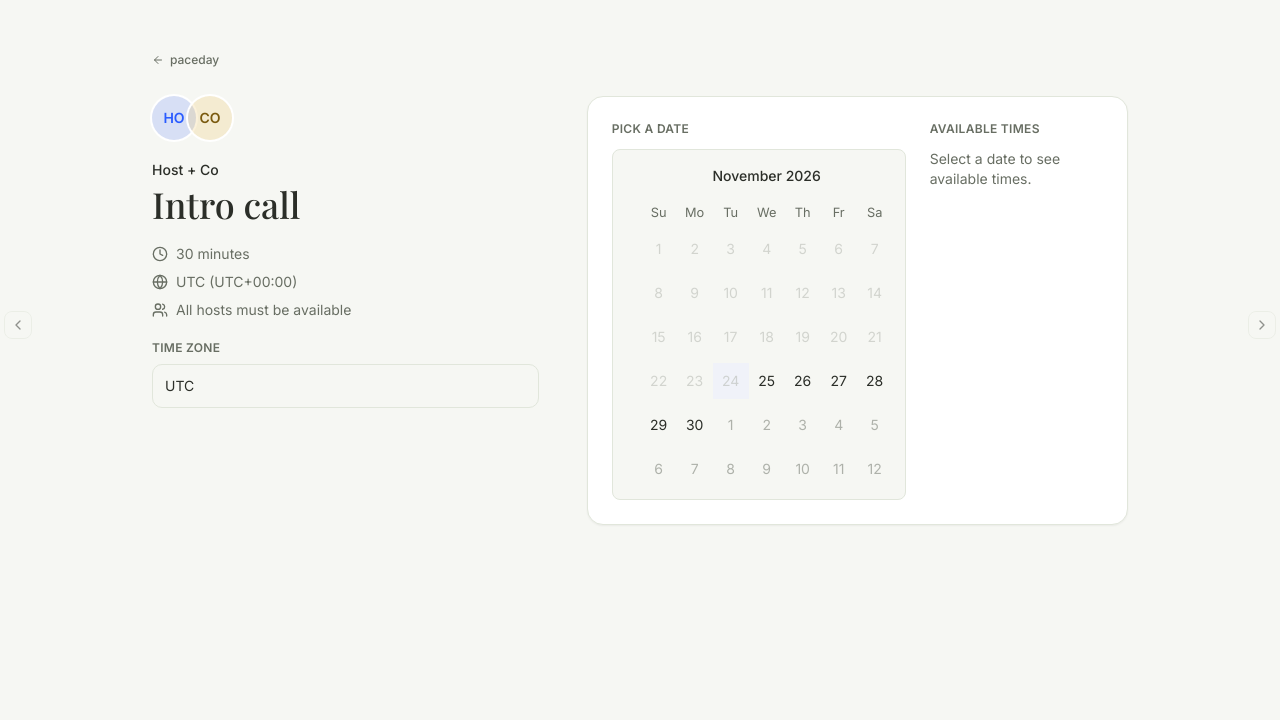
PAC-83 public booking › AC-22: a generic 500 says the booking may have been saved, never 'not made'
Click the button "25": point(767, 381) [749,363,785,399]
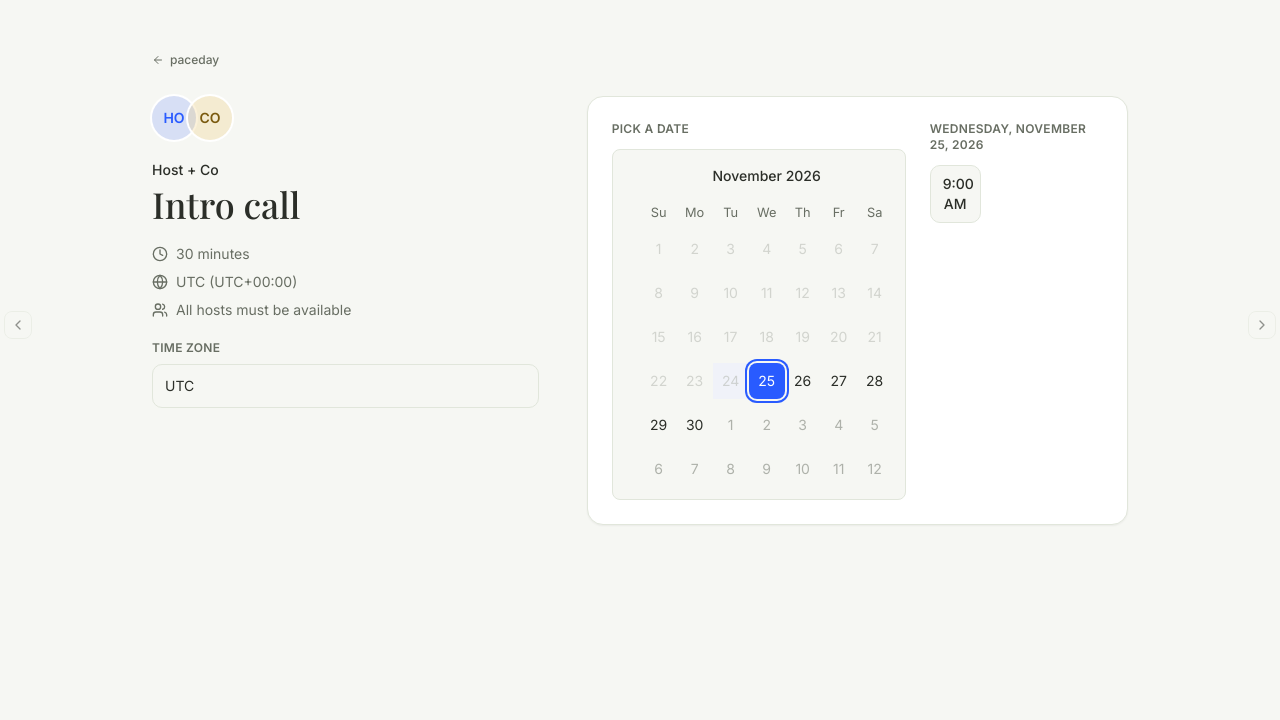
Expected: the button labelled "9:00 AM" is shown
Click the button labelled "9:00 AM": point(955, 194) [930,165,981,223]
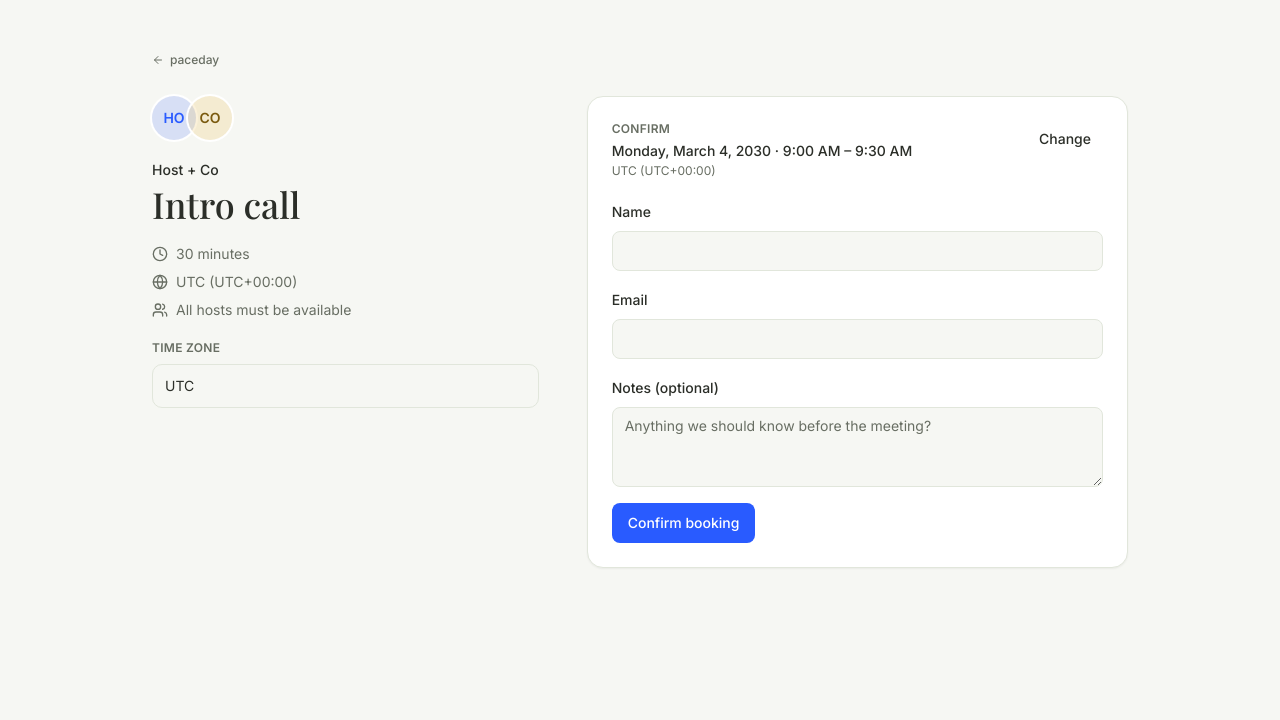
In the field labelled "Name": point(857, 251) [612,231,1103,271], type "Booker"
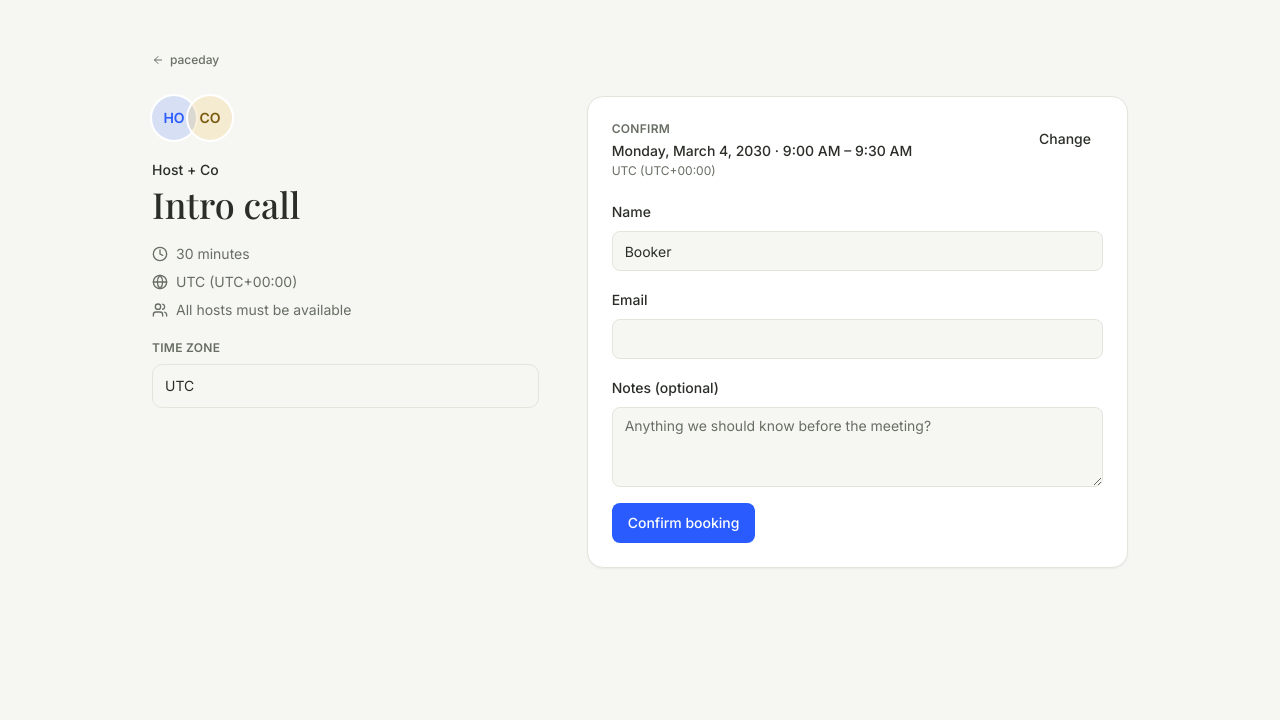
In the field labelled "Email": point(857, 339) [612,319,1103,359], type "booker@co.com"
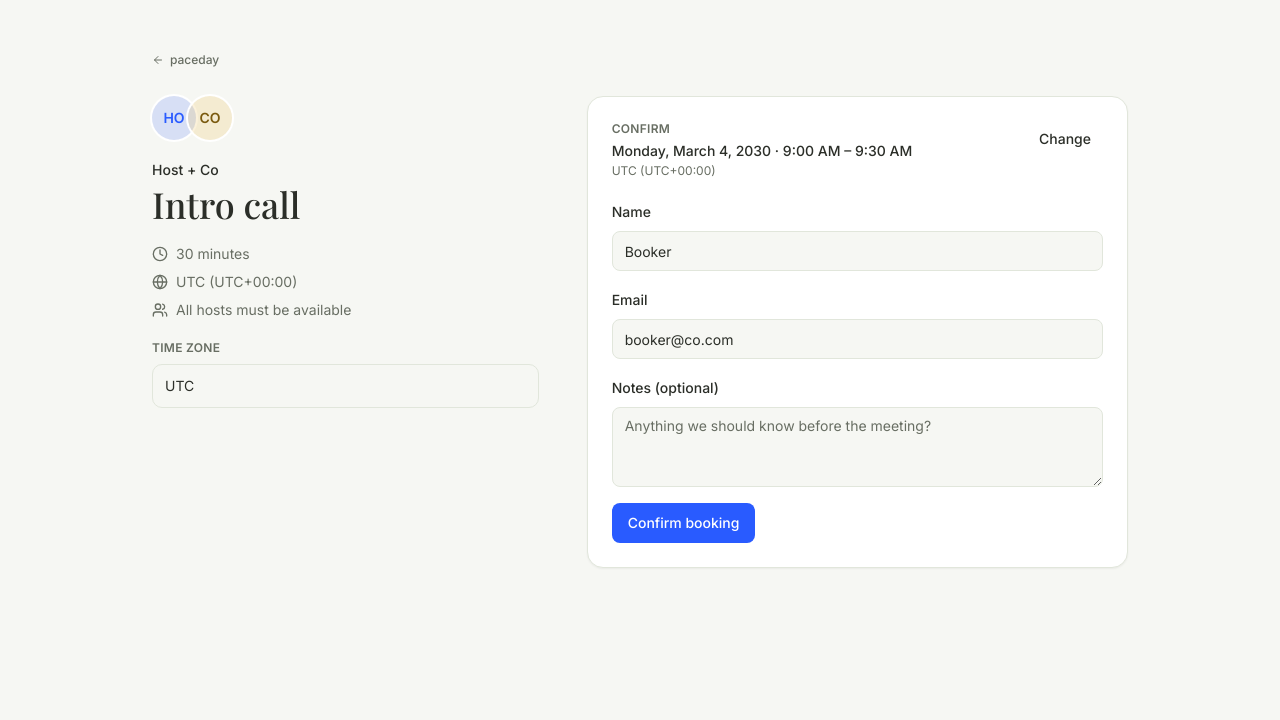
In the text box labelled "Notes (optional)": point(857, 447) [612,407,1103,487], type "Agenda"
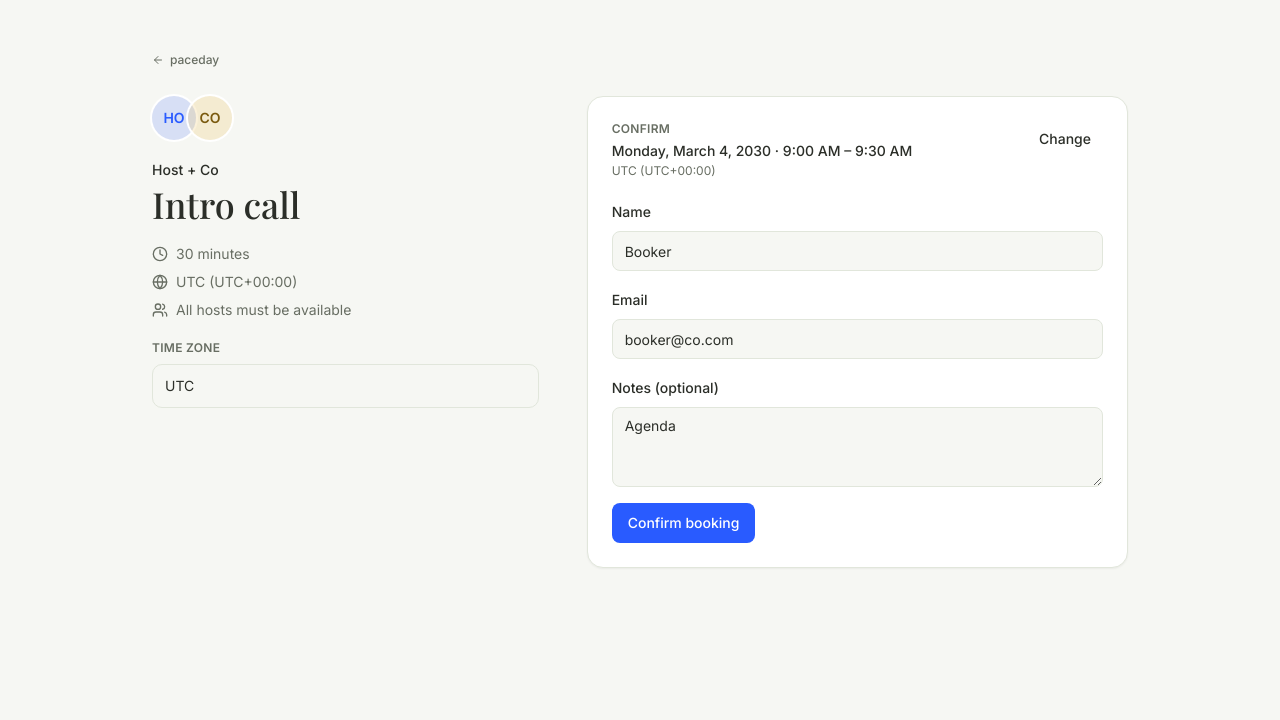
Click the button "Confirm booking": point(684, 523) [612,503,756,543]
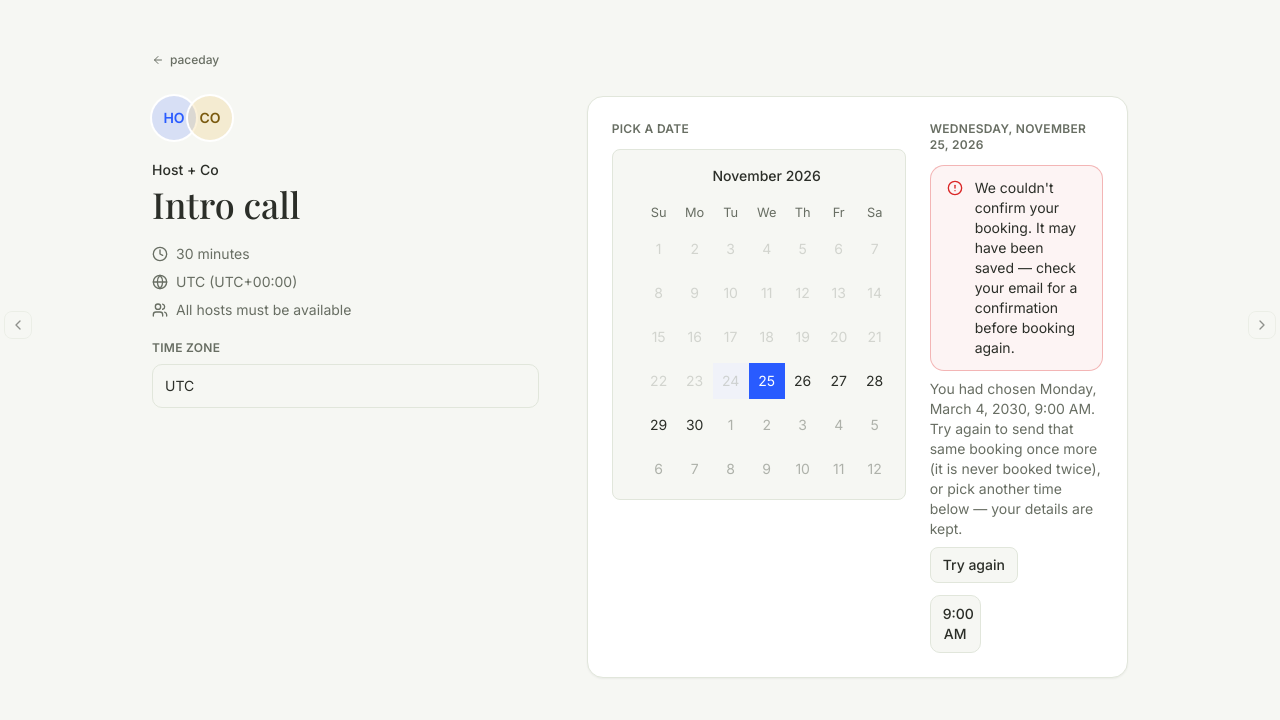
Expected: the message with test id "api-error" shows "We couldn't confirm your booking. It may have been saved — check your email for a confirmation before booking again.", [975,179,1077,356]
